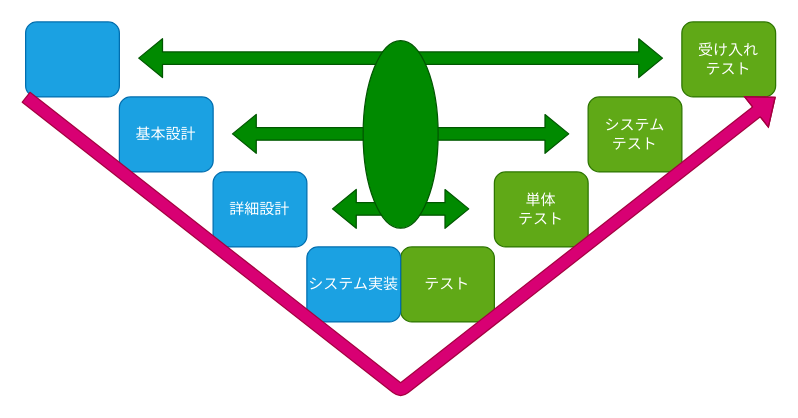
Image size: 798x418. Some labels were removed from this diagram. The shapes that lost their labels are listed below. From the top down, each one's centre as x and y in pixels, then its label:
At pixel 71 59: "要件定義".
At pixel 400 133: "検証".
